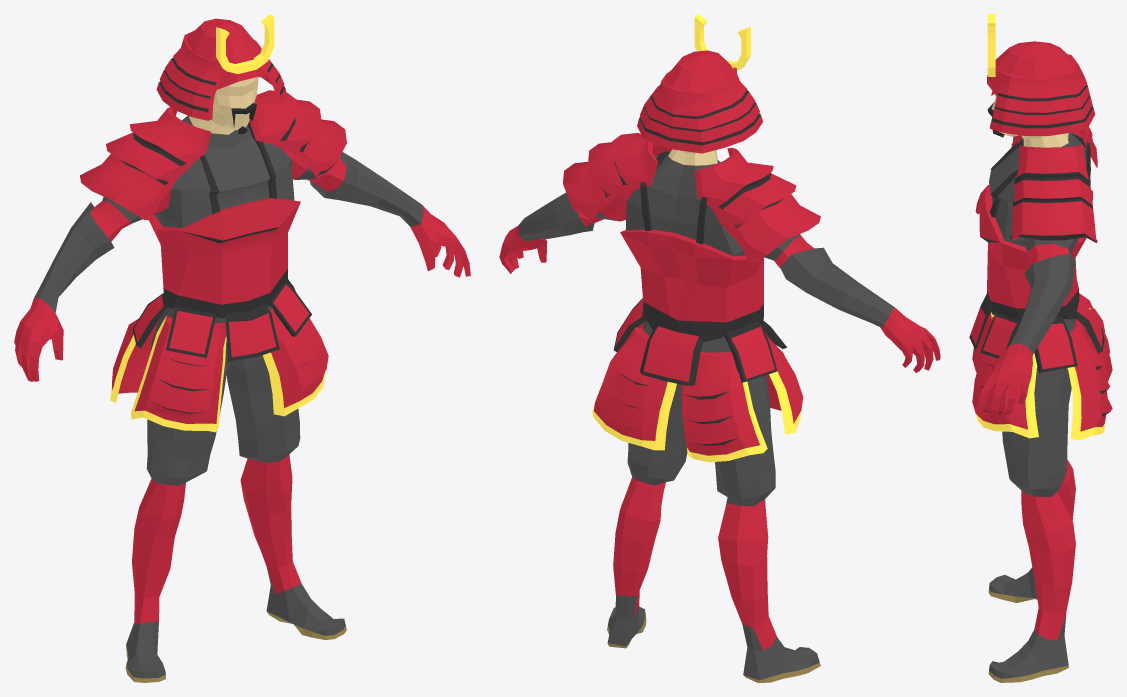
Rendered from low-poly_samurai.glb.
The picture shows the model from 3 angles, left to right: view 1: azimuth 30°, elevation 25°; view 2: azimuth 150°, elevation 25°; view 3: azimuth 270°, elevation 25°; orthographic projection. The views are drawn at different scales.
Parts seen in each view (by area): view 1: Samurai; view 2: Samurai; view 3: Samurai.
Boxes of the visible parts, x1,y1,x2,y2 form: Samurai: (14,14,470,682); Samurai: (499,14,940,682); Samurai: (969,14,1112,682).
Bounding box in the file's own units: 167 × 231 × 49.33.
